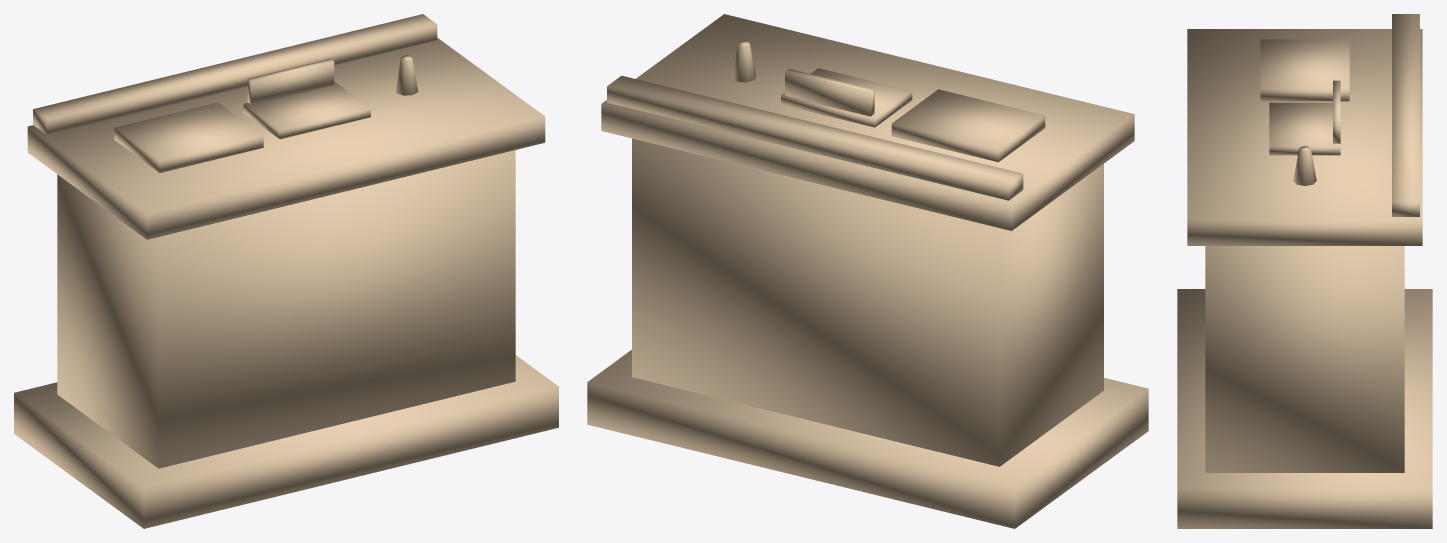
File: classroom-podium-desk.glb
The picture shows the model from 3 angles, left to right: view 1: azimuth 30°, elevation 25°; view 2: azimuth 150°, elevation 25°; view 3: azimuth 270°, elevation 25°; orthographic projection. The views are drawn at different scales.
Visible parts, largest first — view 1: classroom-podium-desk; view 2: classroom-podium-desk; view 3: classroom-podium-desk.
Part boxes in pixels (x1,y1,x2,y2): classroom-podium-desk: (14, 14, 558, 528); classroom-podium-desk: (587, 14, 1148, 528); classroom-podium-desk: (1177, 14, 1432, 528).
Size of the model in its own units: 1.2 by 0.95 by 0.65.
